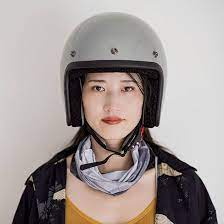helmets: (60, 11, 169, 129)
